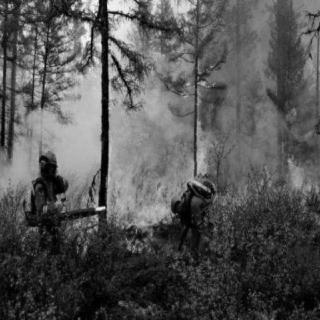Fire: (103, 105, 194, 249)
